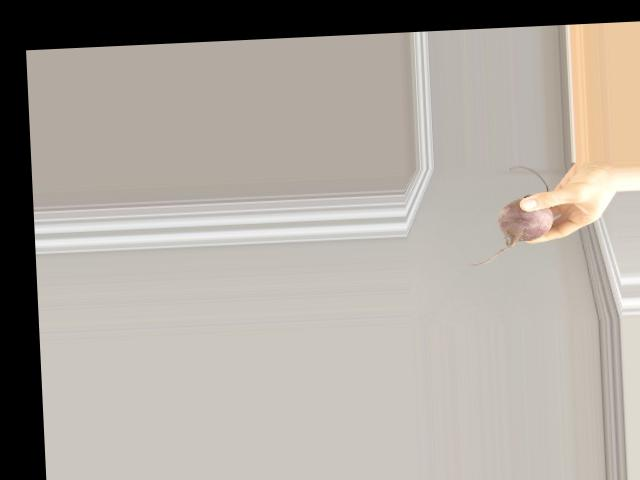beet: (461, 164, 554, 265)
